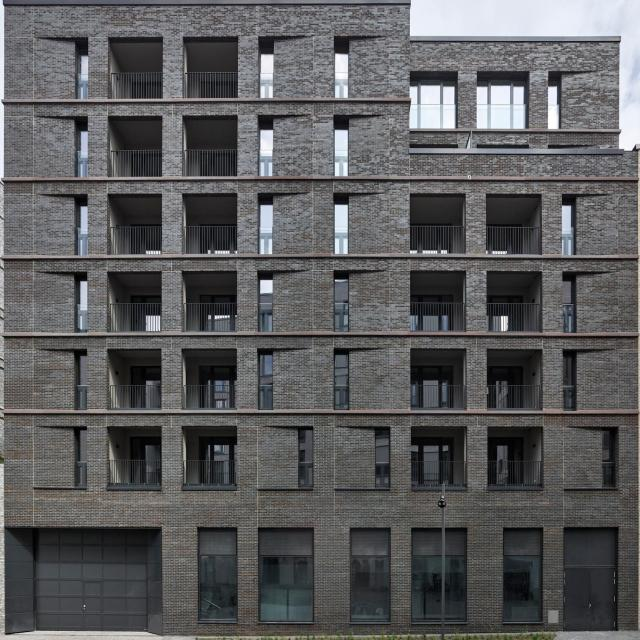door: (29, 532, 142, 637), (561, 530, 613, 634)
railing: (412, 302, 467, 332), (488, 303, 541, 333), (488, 225, 540, 255), (186, 302, 236, 331), (411, 226, 464, 253), (111, 227, 162, 255), (186, 227, 238, 254), (110, 304, 162, 331), (489, 461, 543, 487), (187, 150, 237, 178), (112, 150, 162, 178), (412, 462, 468, 487), (185, 73, 238, 99), (184, 460, 237, 486), (112, 73, 164, 99), (487, 384, 540, 409), (111, 460, 161, 486), (478, 105, 526, 132), (412, 385, 468, 408), (412, 101, 458, 129), (184, 386, 236, 409), (112, 386, 161, 409)
window: (412, 527, 464, 616), (263, 525, 313, 614), (352, 528, 390, 620), (505, 529, 543, 619), (201, 526, 239, 614), (477, 80, 527, 128), (409, 79, 456, 129), (258, 354, 274, 410), (334, 353, 349, 411), (258, 202, 274, 254), (376, 430, 390, 489), (300, 430, 314, 489), (407, 445, 448, 465), (413, 368, 455, 386), (260, 278, 273, 334), (196, 368, 232, 388), (260, 126, 274, 177), (199, 443, 234, 463), (485, 444, 518, 465), (335, 47, 348, 100), (334, 124, 347, 177), (563, 353, 575, 409), (336, 279, 348, 333), (76, 280, 88, 333), (335, 203, 347, 256), (484, 370, 520, 387), (260, 52, 273, 98), (605, 431, 615, 485), (128, 370, 158, 388), (78, 357, 88, 410), (548, 82, 559, 130), (79, 205, 89, 257), (563, 203, 573, 255), (78, 132, 89, 179), (79, 51, 88, 103), (129, 446, 158, 462), (79, 432, 87, 487), (563, 306, 574, 333)
